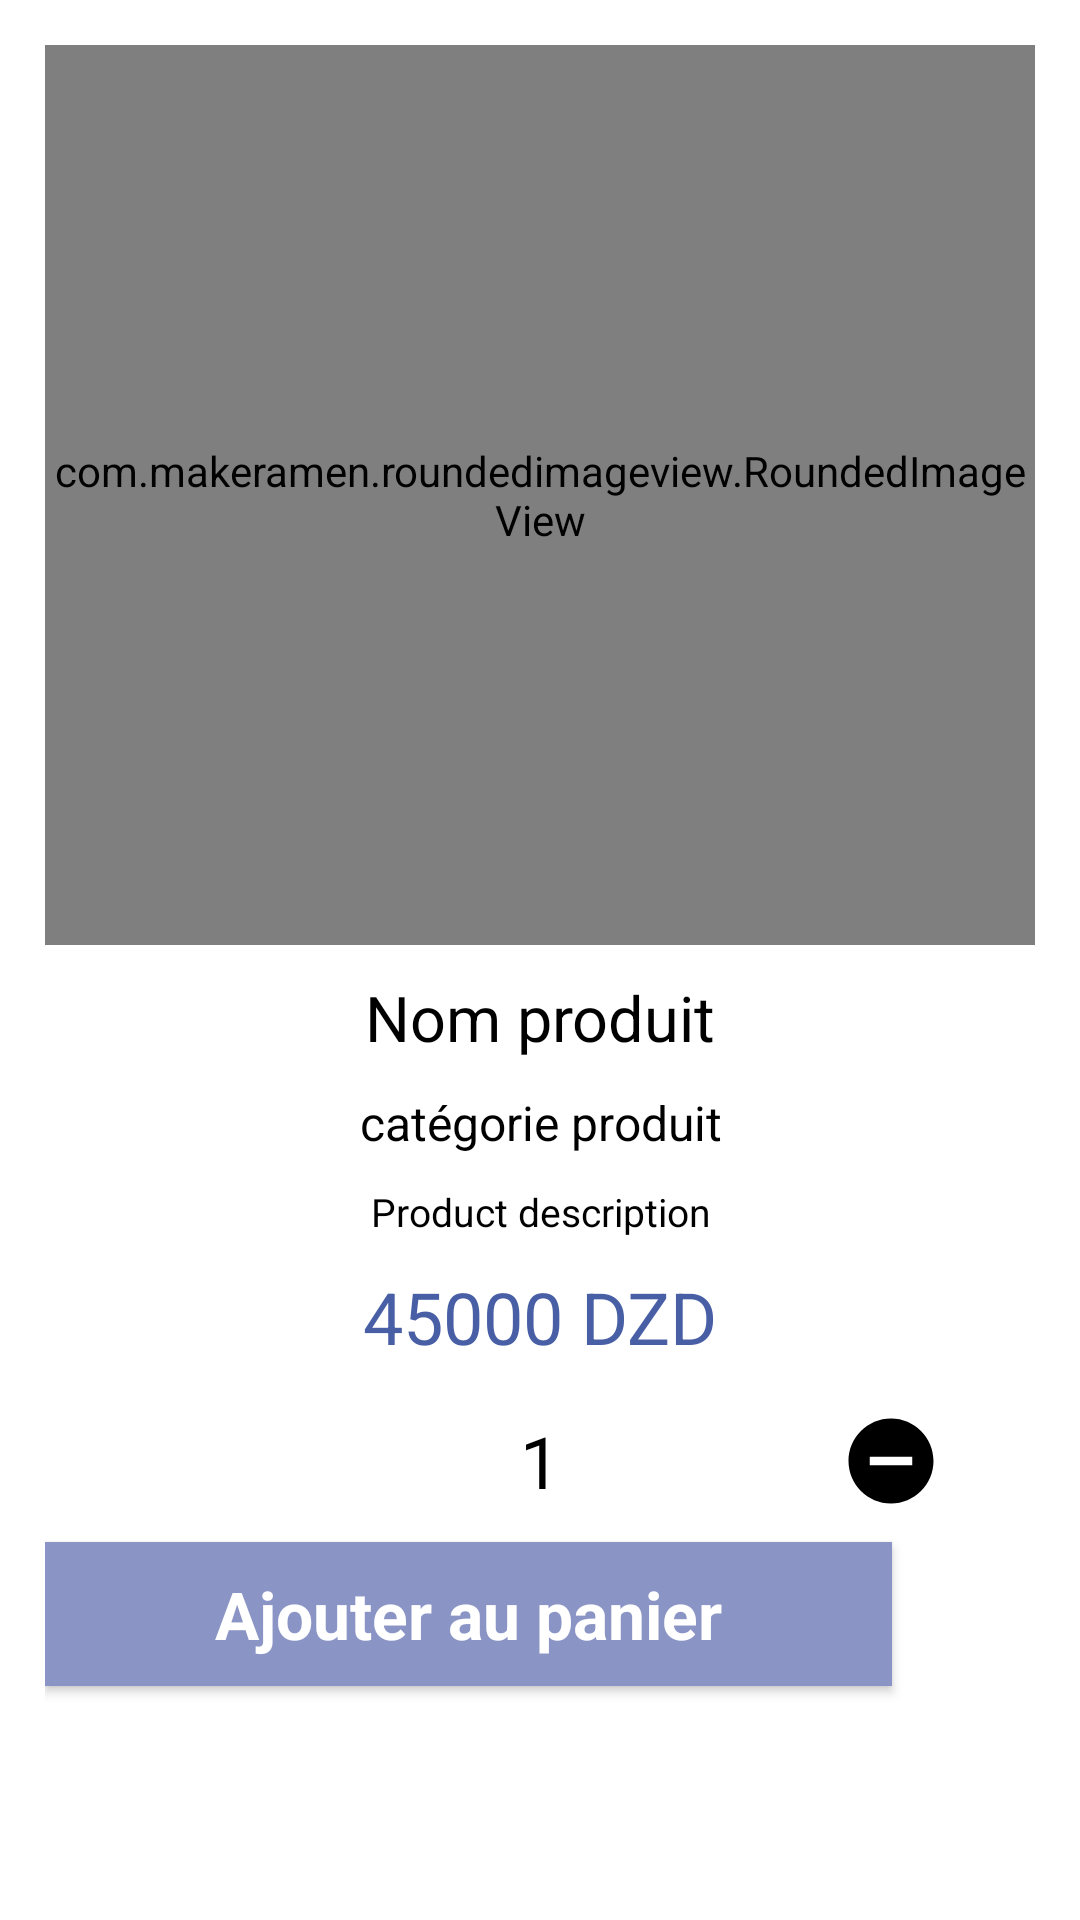

Screen size 1080px×1920px. Icon name, then its box in pixels as [left=x1, top=y1, right=x2, bottom=y2]:
minus: [left=848, top=1418, right=934, bottom=1504]
